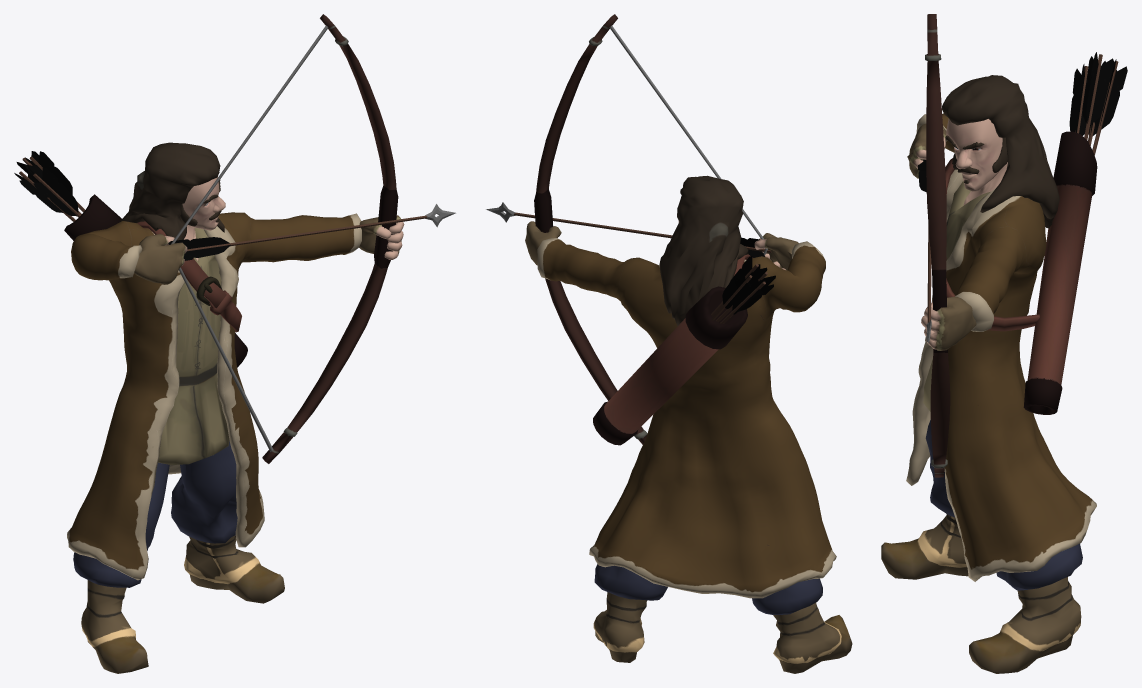
Rendered from bard_the_bowman.glb.
3 views of the same model, side by side, from view 1: azimuth 30°, elevation 25°; view 2: azimuth 150°, elevation 25°; view 3: azimuth 270°, elevation 25° (orthographic). The views are drawn at different scales.
Parts seen in each view (by area): view 1: Pose Geometry; view 2: Pose Geometry; view 3: Pose Geometry.
Boxes of the visible parts, x1,y1,x2,y2 form: Pose Geometry: [14, 14, 455, 673]; Pose Geometry: [486, 14, 852, 673]; Pose Geometry: [881, 14, 1127, 673].
Bounding box in the file's own units: 1.59 × 2.48 × 0.823.
4 materials, 4 textured.
